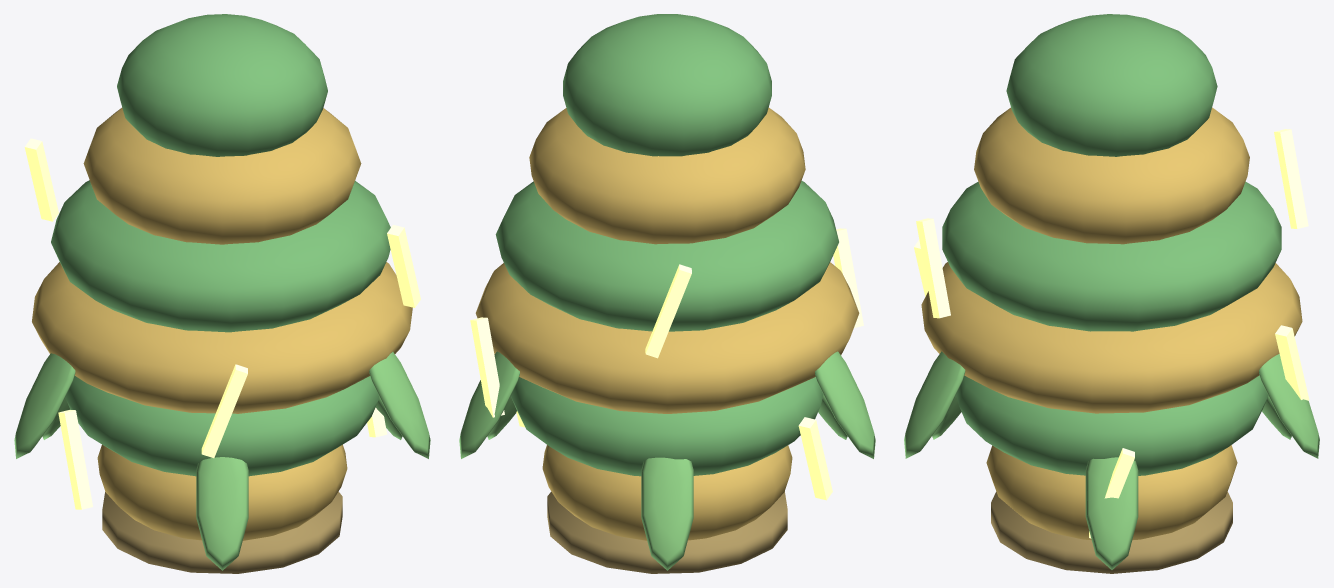
The model's file is egg_jungle_06.glb.
3 renders of one model, left to right at view 1: azimuth 30°, elevation 25°; view 2: azimuth 150°, elevation 25°; view 3: azimuth 270°, elevation 25°, orthographic.
Visible parts, largest first — view 1: ball; view 2: ball; view 3: ball.
Part boxes in pixels (x1,y1,x2,y2): ball: [14, 14, 430, 573]; ball: [459, 14, 875, 573]; ball: [904, 14, 1319, 573].
Size of the model in its own units: 0.8065 by 0.99 by 0.7553.
